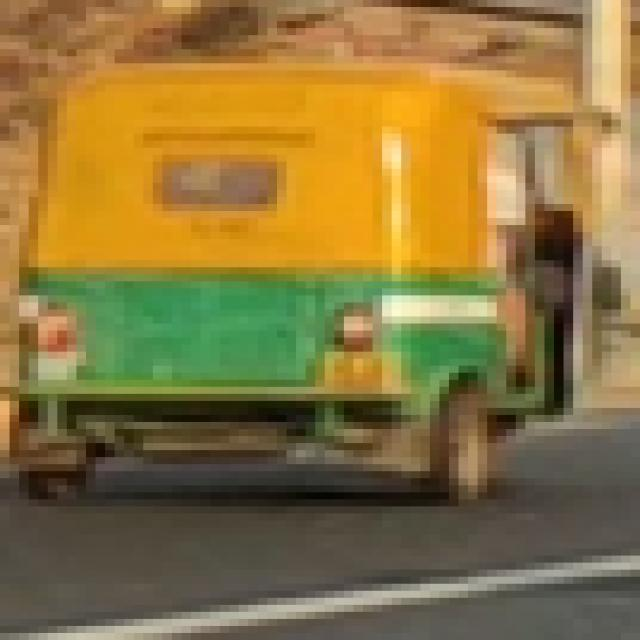autorickshaw: (2, 46, 636, 516)
